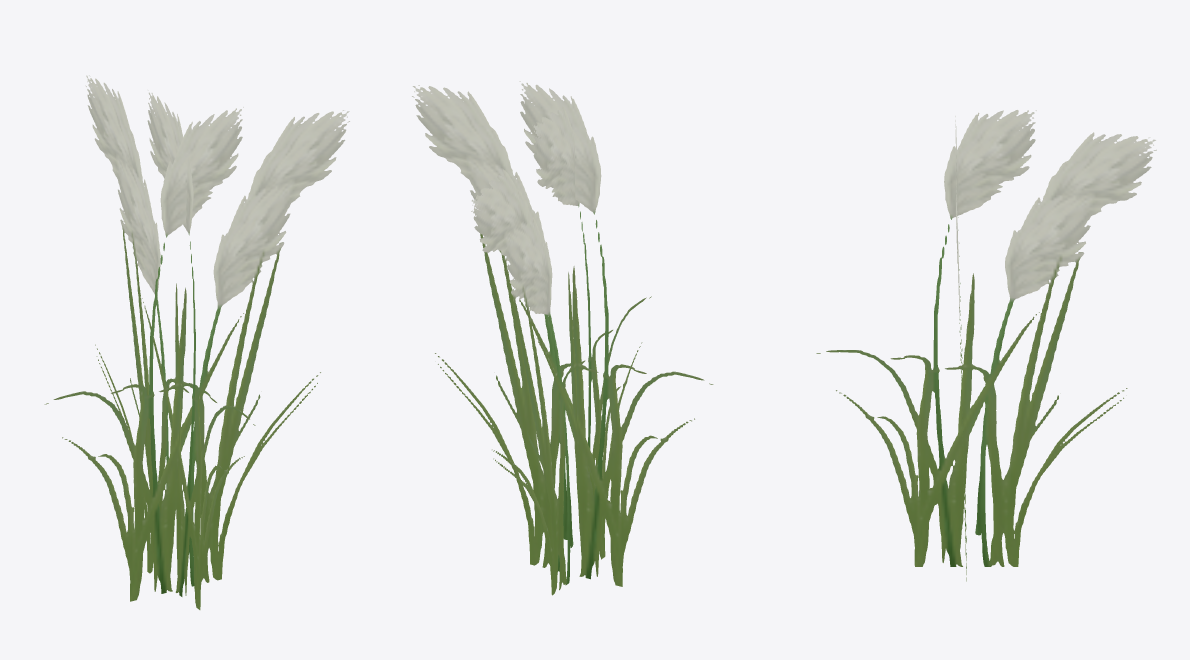
File: SM_EastLands_AmurSilvergrass_02.fbx
3 views of the same model, side by side, from view 1: azimuth 30°, elevation 25°; view 2: azimuth 150°, elevation 25°; view 3: azimuth 270°, elevation 25° (orthographic). The views are drawn at different scales.
Parts seen in each view (by area): view 1: SM_EastLands_AmurSilvergrass_02_LOD2; view 2: SM_EastLands_AmurSilvergrass_02_LOD2; view 3: SM_EastLands_AmurSilvergrass_02_LOD2.
Boxes of the visible parts, left/top/right/bottom form: SM_EastLands_AmurSilvergrass_02_LOD2: left=44, top=75, right=349, bottom=609; SM_EastLands_AmurSilvergrass_02_LOD2: left=412, top=81, right=713, bottom=595; SM_EastLands_AmurSilvergrass_02_LOD2: left=816, top=110, right=1156, bottom=581.
Size of the model in its own units: 167 by 225 by 167.
